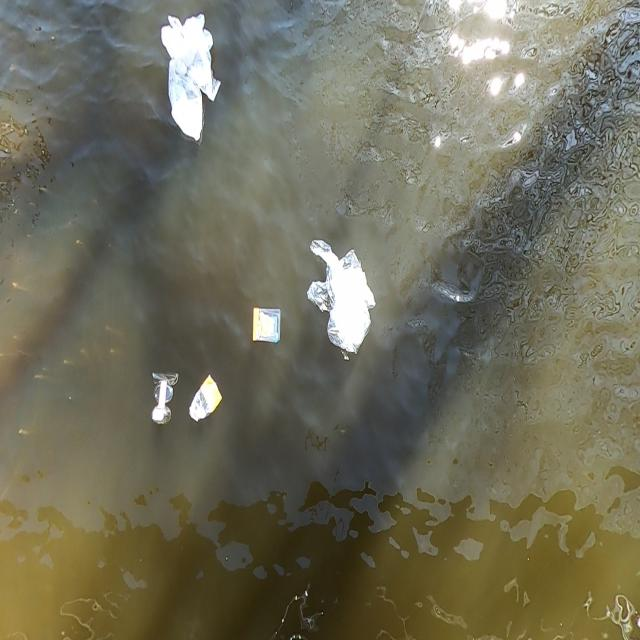Sac plastique: (303, 236, 375, 366)
